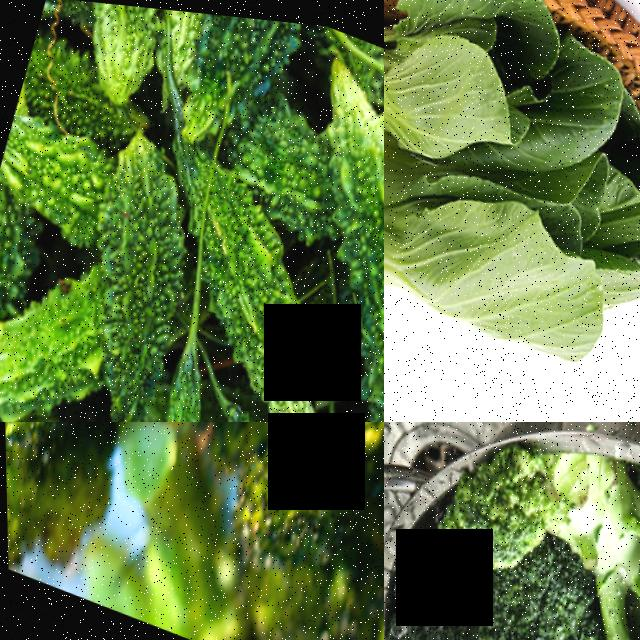bitter gourd: (183, 224, 369, 422), (85, 193, 199, 422), (0, 273, 108, 422), (314, 193, 384, 422), (179, 6, 274, 150), (2, 121, 101, 219), (70, 0, 148, 96)
bok choy: (384, 156, 640, 402), (384, 0, 640, 218)
broccoli: (191, 422, 384, 640), (421, 422, 598, 611), (1, 422, 141, 575), (384, 549, 593, 640)
